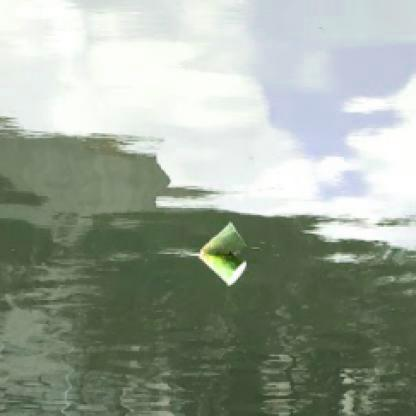Metal: (199, 252, 253, 291)
